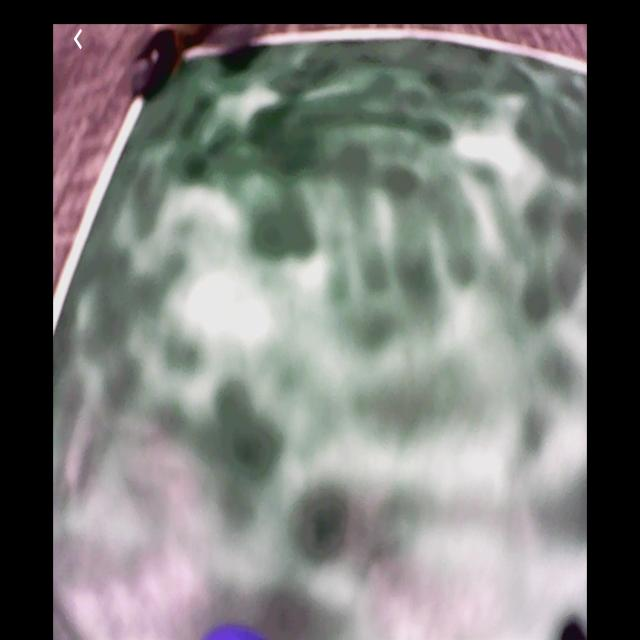ball: (202, 622, 270, 640)
